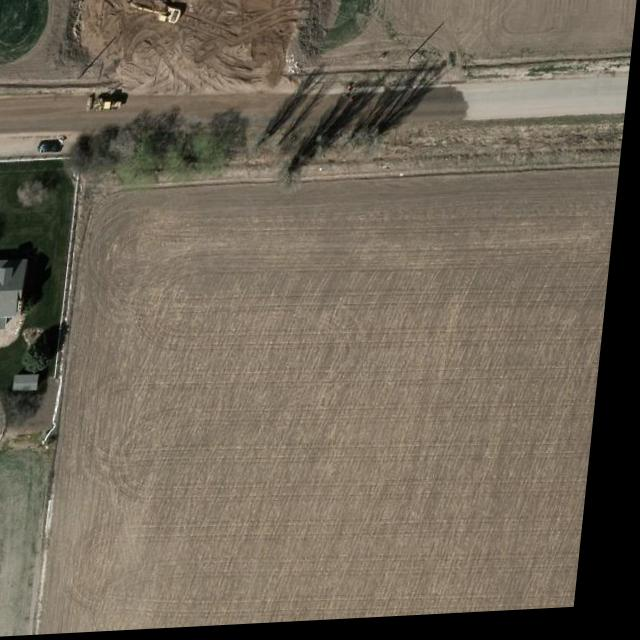vehicle: (40, 140, 67, 154)
